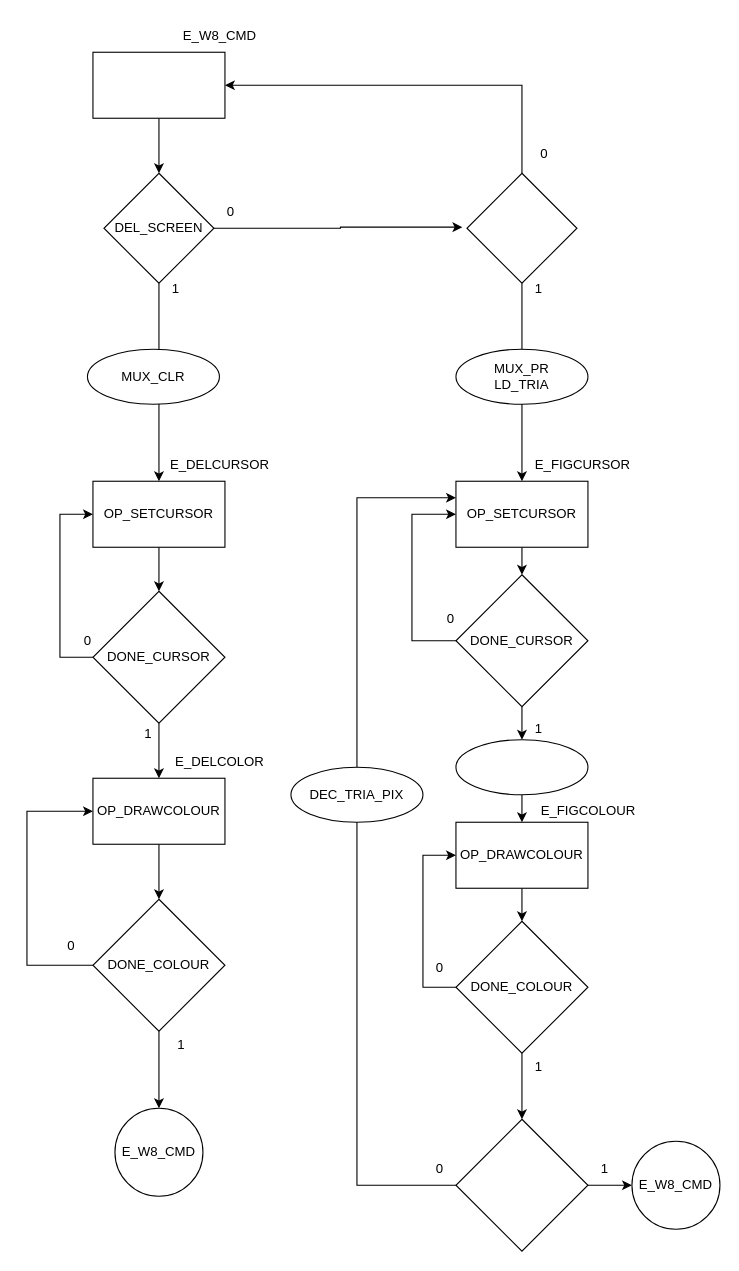
This 739x1271 diagram has some shape labels left out. Here are the shapes that lost their labels. From the top down, the box of each, then its label:
(466, 172, 577, 283): DRAW_FIG
(455, 739, 588, 795): INC_XYTRIA
(455, 1118, 588, 1251): END_TRIA
